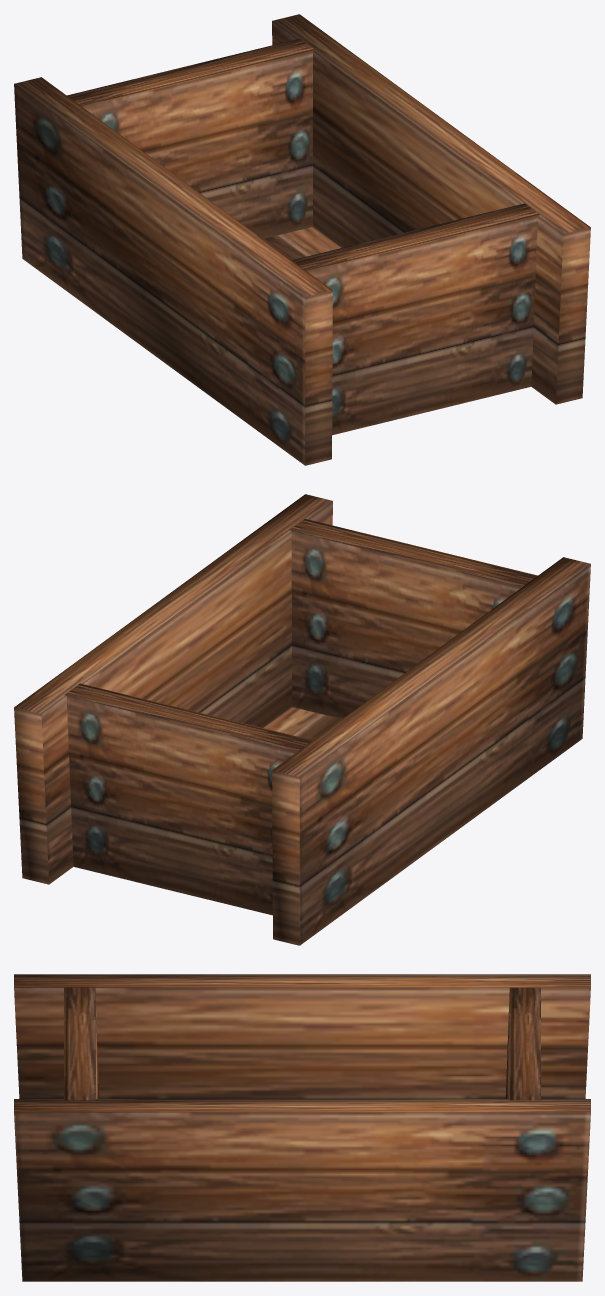
Rendered from crate02.glb.
3 views of the same model, one above another, from view 1: azimuth 30°, elevation 25°; view 2: azimuth 150°, elevation 25°; view 3: azimuth 270°, elevation 25° (orthographic).
Bounding box in the file's own units: 0.8646 × 0.5002 × 1.53.
Materials: 1 (1 with a texture image).
